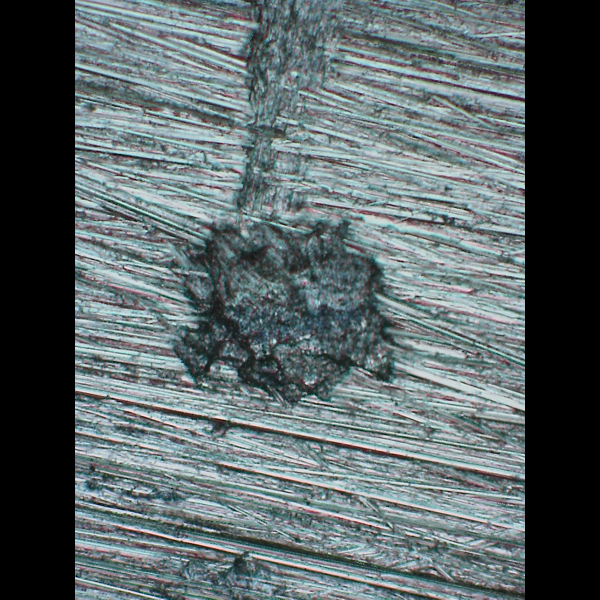d: (159, 221, 402, 403)
